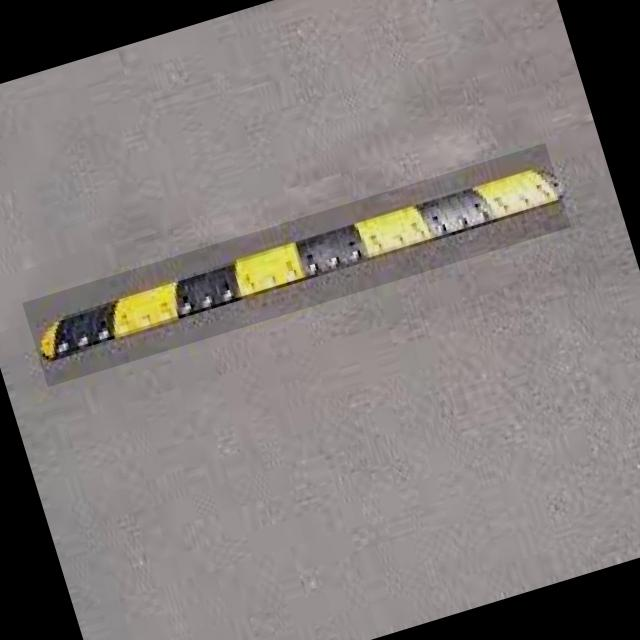bump: (22, 142, 570, 386)
